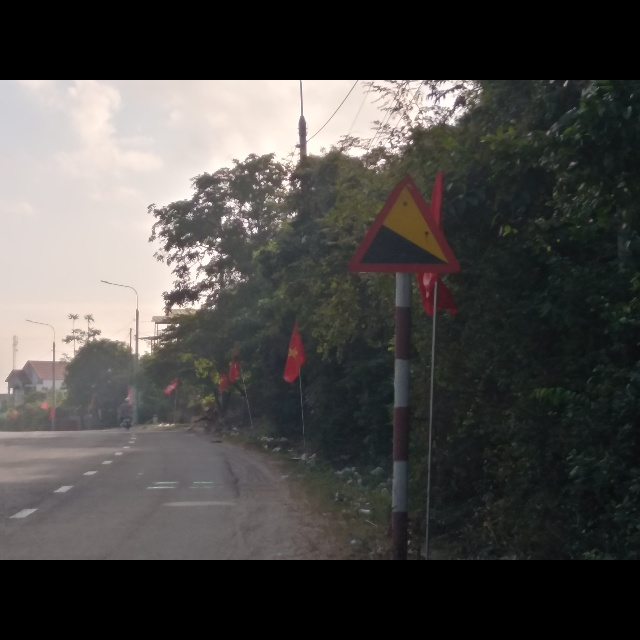Dốc lên nguy hiểm: (346, 168, 464, 275)
